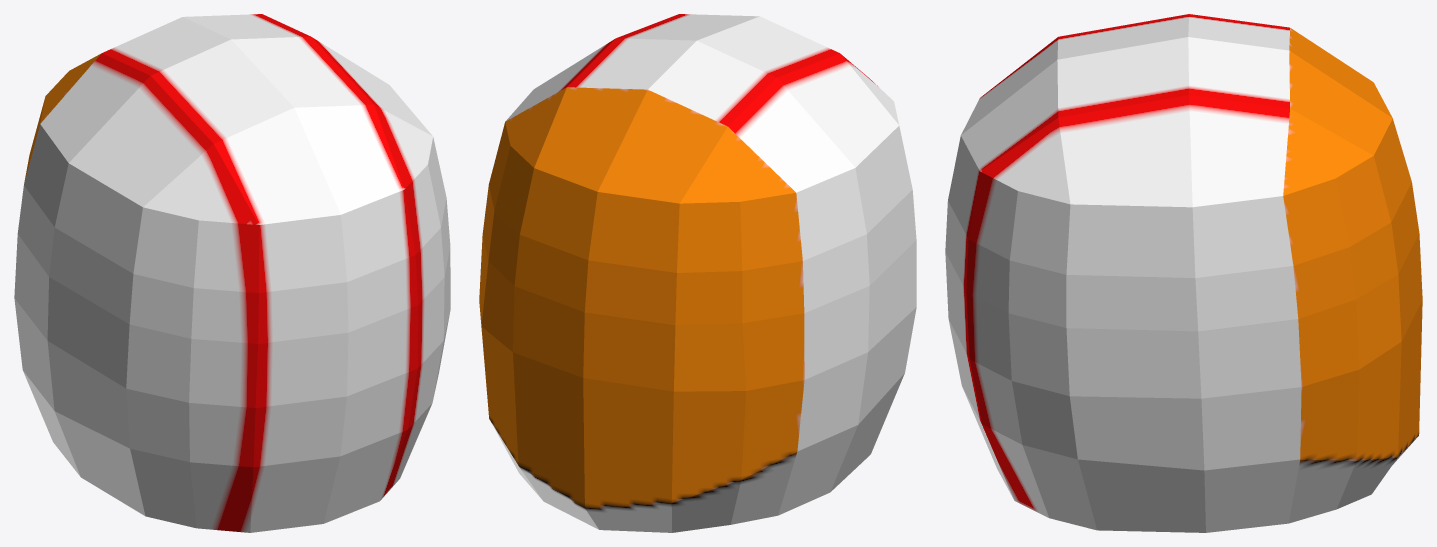
The model's file is Spacesuit Helmet.obj.
3 views of the same model, side by side, from view 1: azimuth 30°, elevation 25°; view 2: azimuth 150°, elevation 25°; view 3: azimuth 270°, elevation 25° (orthographic). The views are drawn at different scales.
Parts seen in each view (by area): view 1: Head; view 2: Head; view 3: Head.
Boxes of the visible parts, bbox=[...] form: Head: bbox=[14, 14, 450, 532]; Head: bbox=[479, 14, 916, 532]; Head: bbox=[945, 14, 1422, 532].
Size of the model in its own units: 0.1312 by 0.1475 by 0.1477.
Materials: 1 (1 with a texture image).
